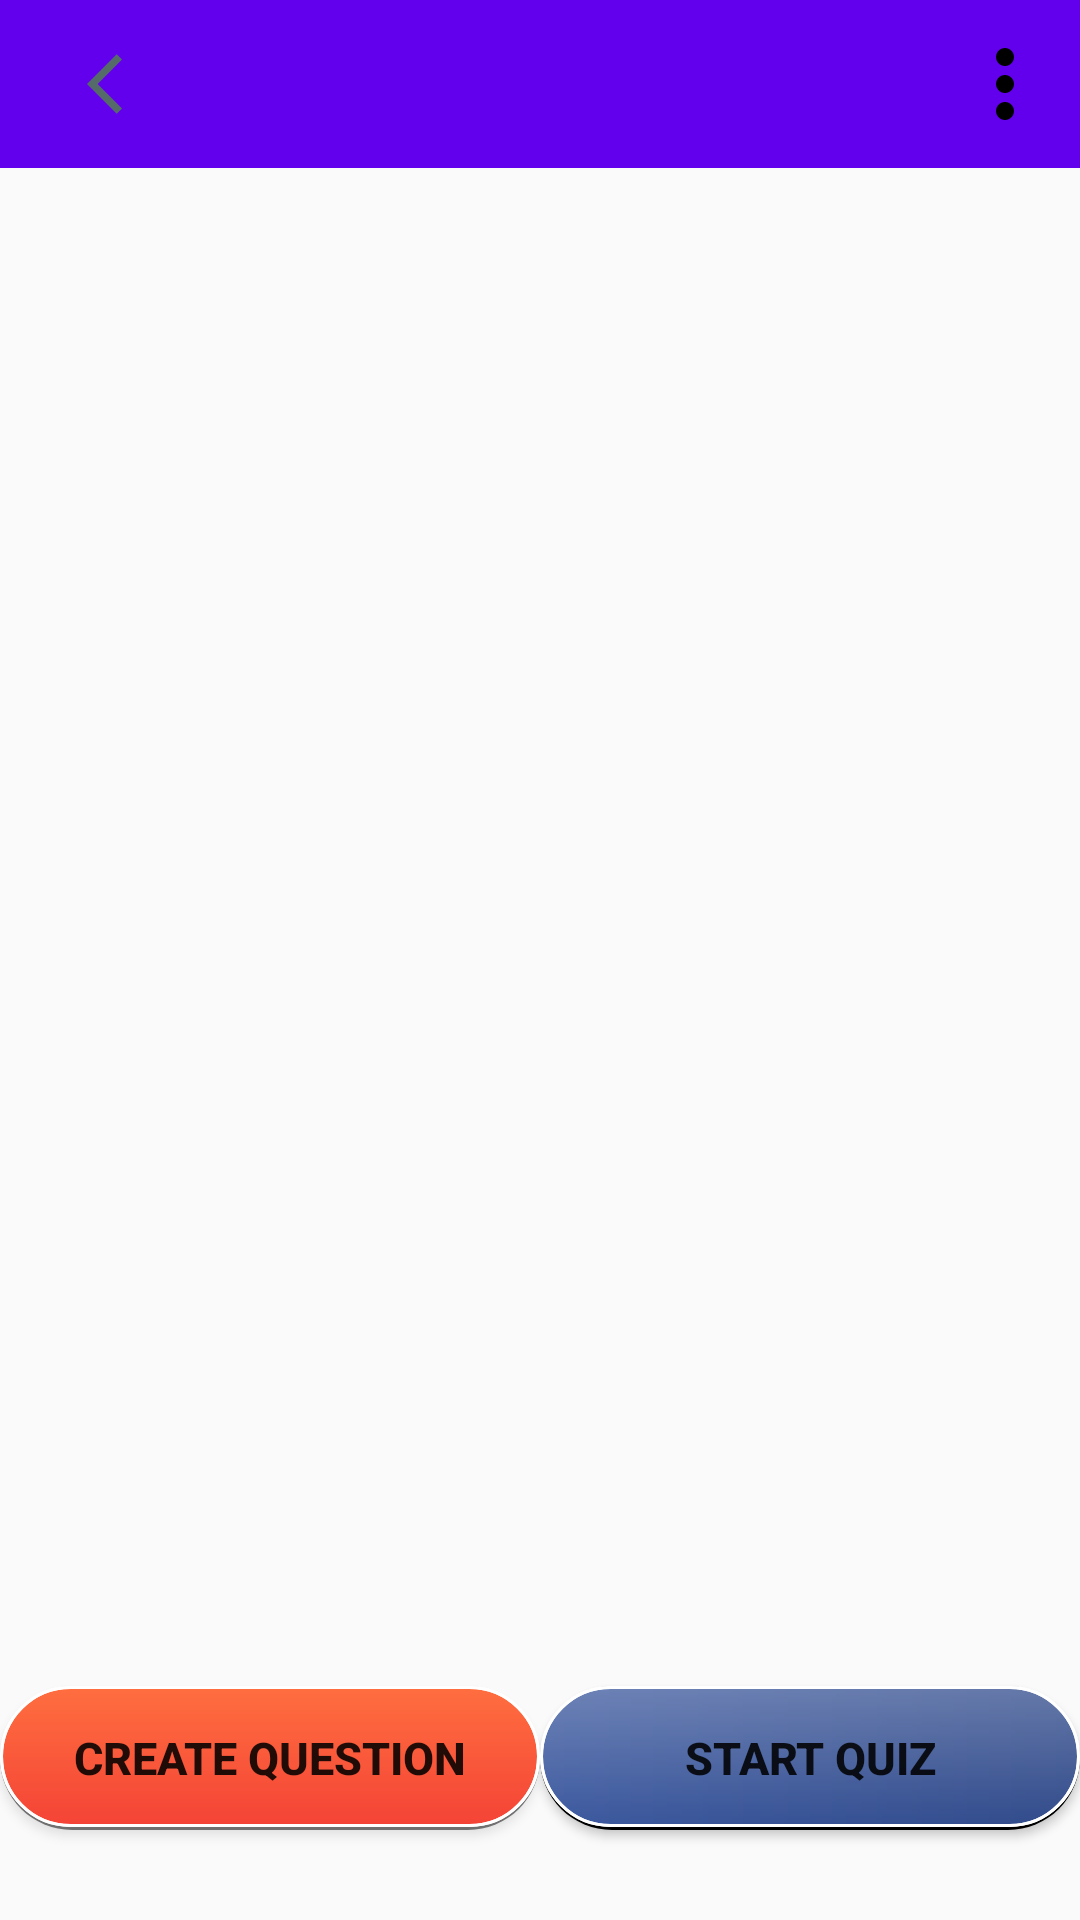

Icon click points for this 1080px×1920px phone screenshot, format (x=x, y=y):
Back: (x=104, y=84)
Menu: (x=1005, y=84)
